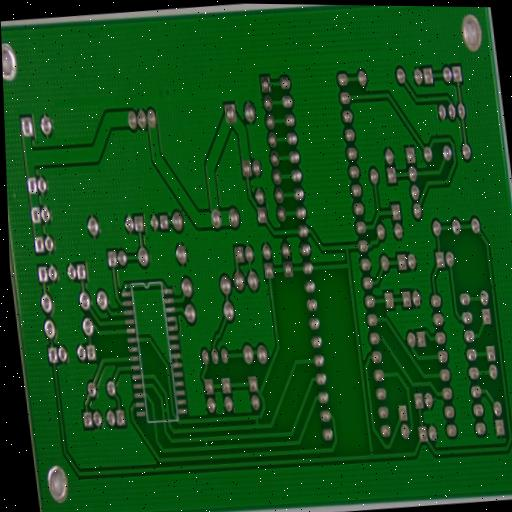short_circuit: (251, 412, 263, 432), (159, 401, 171, 420), (200, 434, 212, 451)
